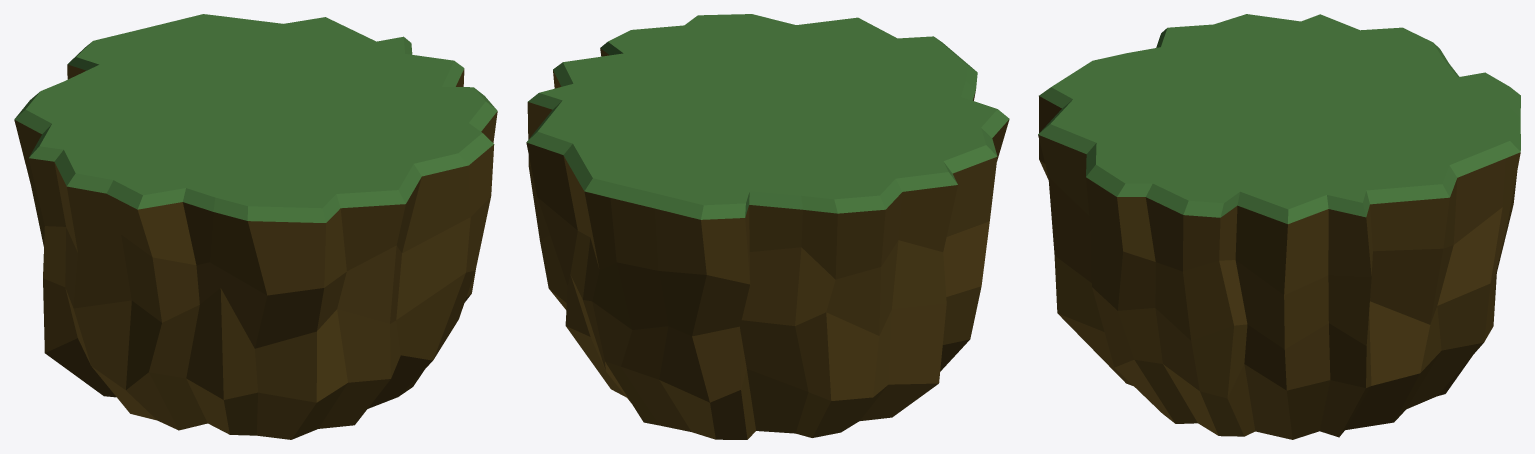
File: land1.fbx
3 views of the same model, side by side, from view 1: azimuth 30°, elevation 25°; view 2: azimuth 150°, elevation 25°; view 3: azimuth 270°, elevation 25° (orthographic).
Visible parts, largest first — view 1: Plane; view 2: Plane; view 3: Plane.
Part boxes in pixels (x1,y1,x2,y2): Plane: [14, 14, 497, 439]; Plane: [526, 14, 1009, 439]; Plane: [1038, 14, 1520, 439].
Bounding box in the file's own units: 183 × 109 × 182.
